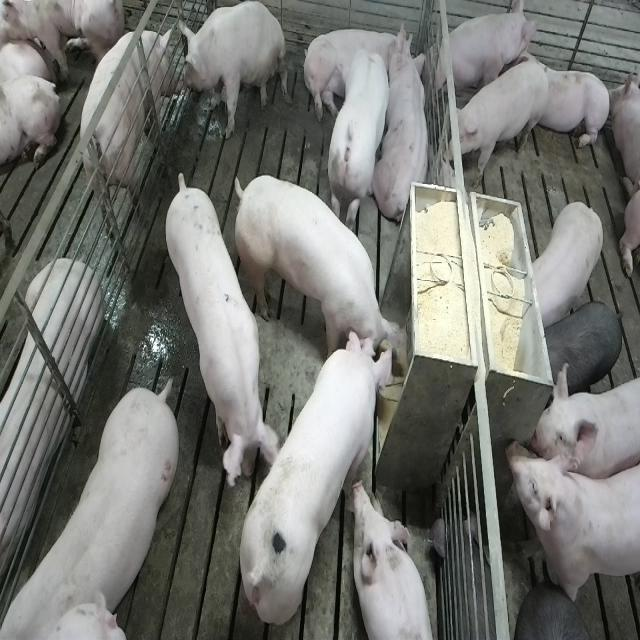Feeding: (232, 326, 392, 626), (240, 170, 416, 382)
Lateral_lying: (303, 16, 415, 121)
Sitting: (178, 2, 286, 143)
Standing: (5, 375, 183, 635), (168, 165, 280, 490), (504, 442, 638, 610), (82, 28, 181, 236), (444, 61, 548, 190), (529, 364, 637, 483), (325, 48, 389, 235), (528, 197, 603, 326), (540, 302, 623, 398), (518, 581, 602, 638)
Sternal_lying: (0, 260, 100, 597), (352, 483, 437, 640), (517, 51, 613, 155)
